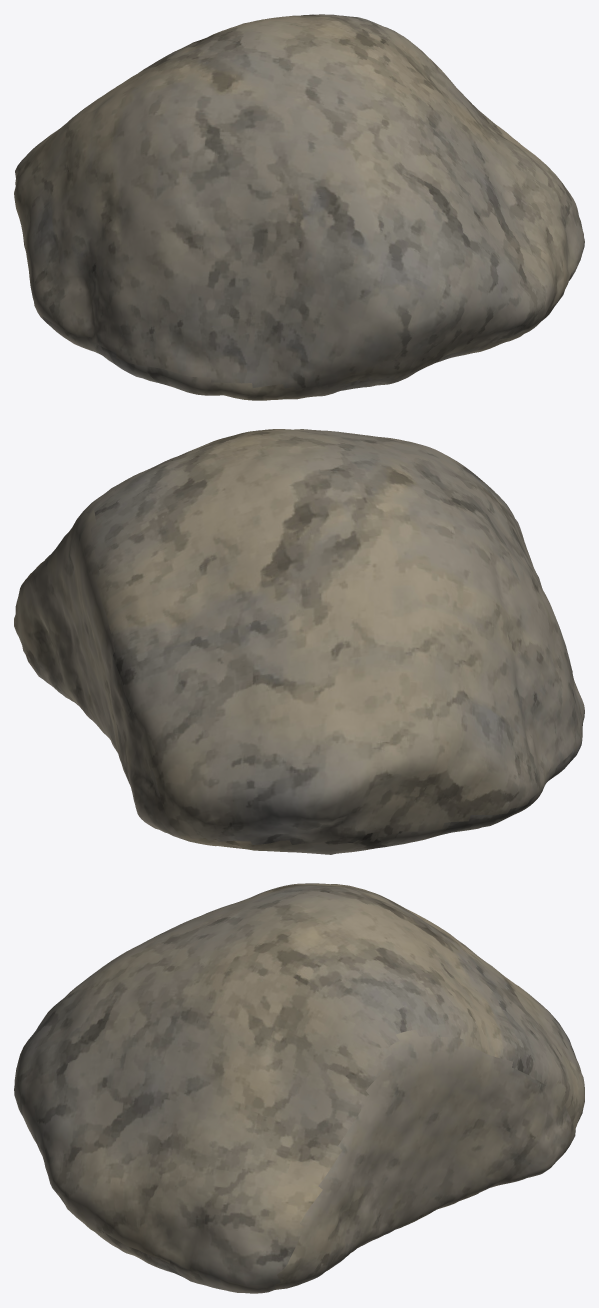
File: rock5.fbx
3 views of the same model, one above another, from view 1: azimuth 30°, elevation 25°; view 2: azimuth 150°, elevation 25°; view 3: azimuth 270°, elevation 25° (orthographic). The views are drawn at different scales.
Visible parts, largest first — view 1: Stone5ok17_001; view 2: Stone5ok17_001; view 3: Stone5ok17_001.
Boxes of the visible parts, x1=… form: Stone5ok17_001: x1=14, y1=14, x2=584, y2=400; Stone5ok17_001: x1=14, y1=429, x2=584, y2=854; Stone5ok17_001: x1=14, y1=883, x2=584, y2=1293.
Bounding box in the file's own units: 6.11 × 3.15 × 6.05.
